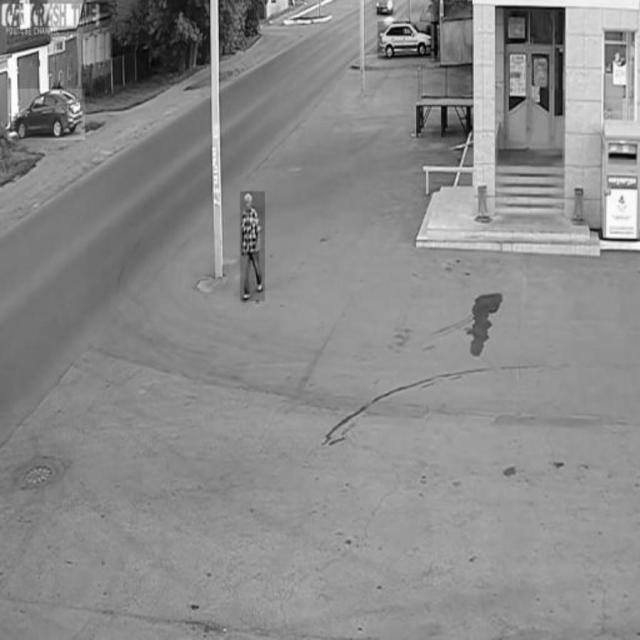person: (240, 192, 265, 302)
vehicle: (7, 89, 85, 140), (378, 22, 438, 59), (374, 0, 396, 16)
